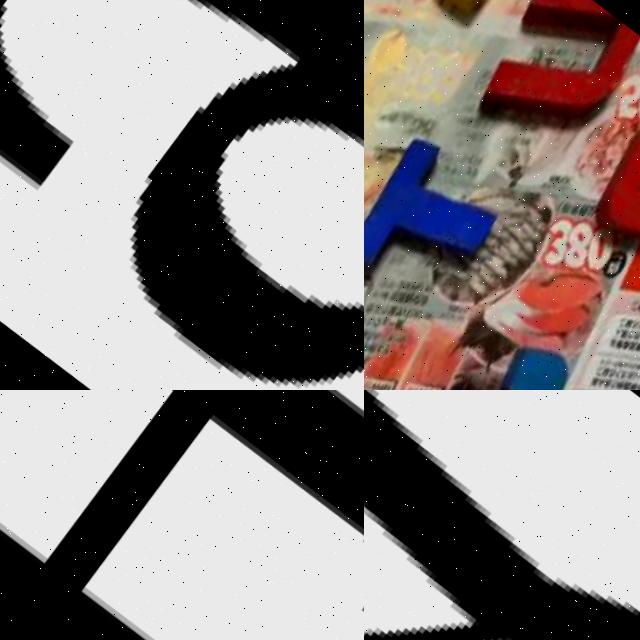6: (0, 0, 364, 390)
H: (0, 390, 364, 640)
J: (364, 311, 587, 390)
O: (558, 77, 640, 293)
T: (364, 126, 514, 319)
U: (447, 0, 640, 167)
Y: (364, 390, 640, 640)
